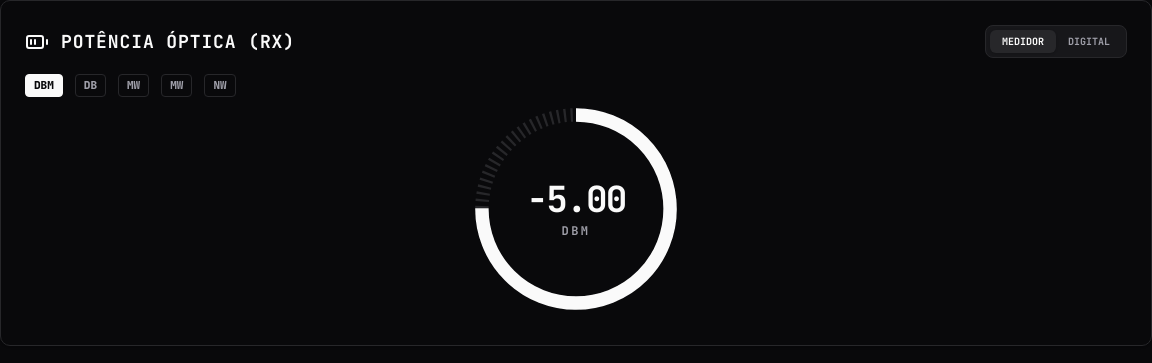
it: RxPower › changes unit when clicked
Click the button "mW" at x=134, y=85, box [118,74,149,96]
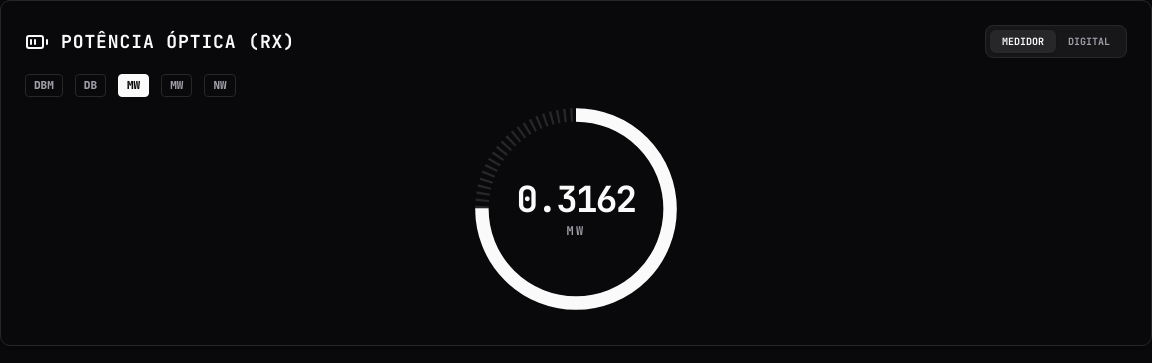
Expected: the text "0.3162" is shown, [517,178,635,218]
